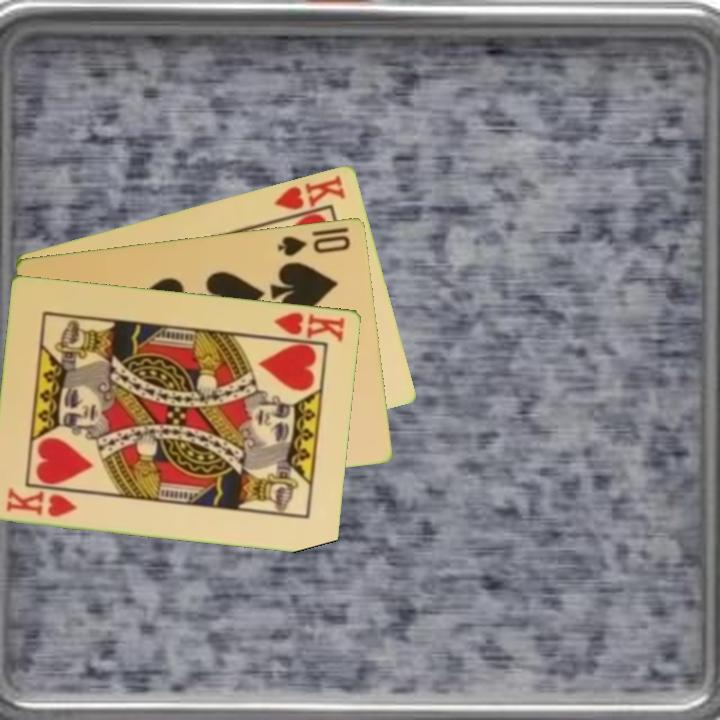10s: (274, 231, 354, 259)
Kh: (271, 171, 349, 223), (265, 308, 348, 345), (3, 484, 80, 520)
